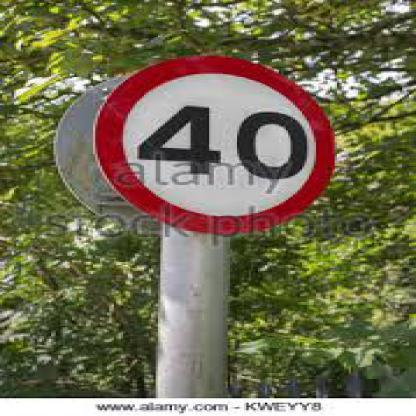Speed Limit 40: (103, 56, 332, 230)
